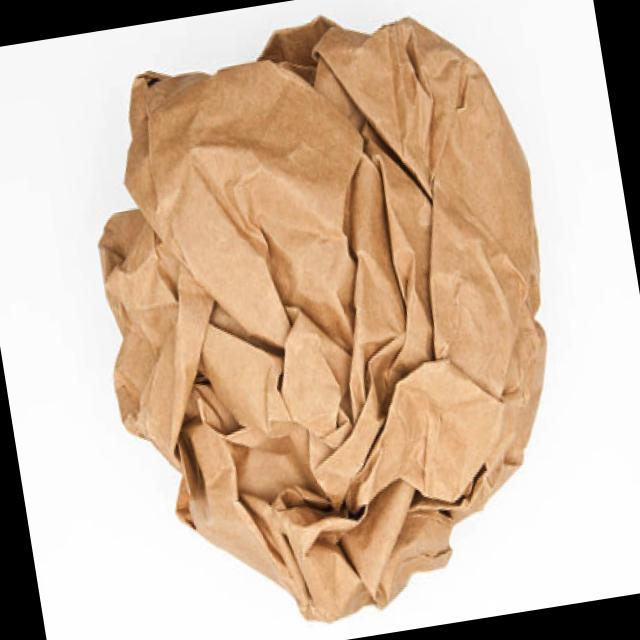KertasBekas: (60, 0, 596, 640)
